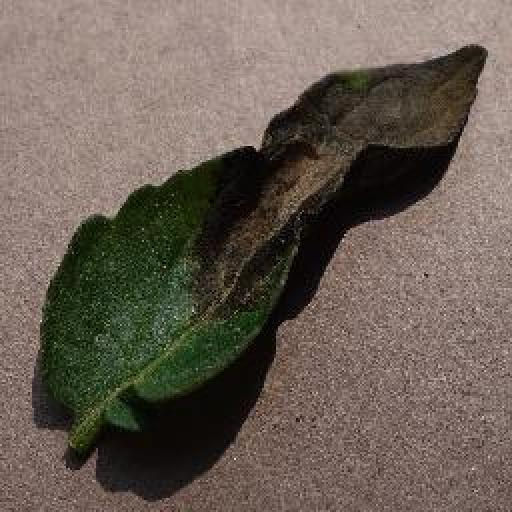Late Blight: (35, 44, 488, 437)
